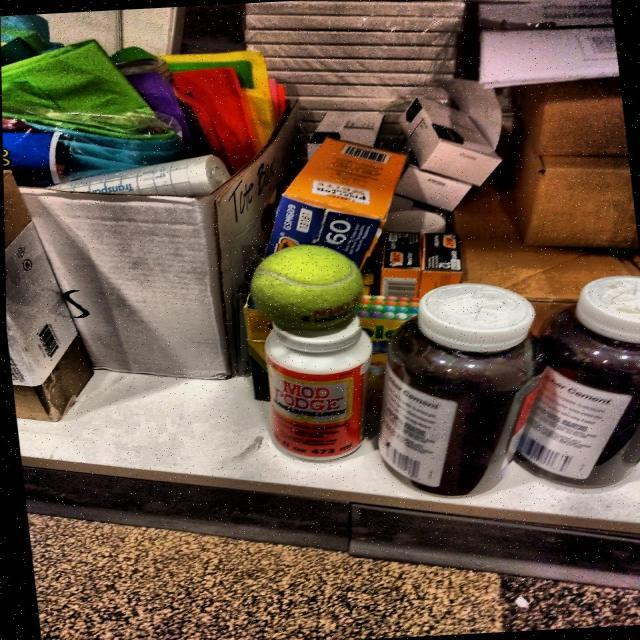tennis-ball: (240, 238, 377, 334)
